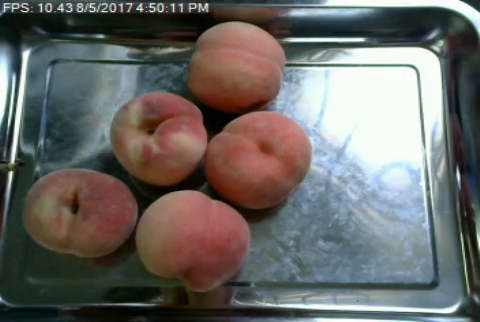Peach: (136, 190, 248, 290), (204, 110, 311, 210), (22, 167, 137, 258), (108, 90, 207, 186), (187, 20, 284, 113)
